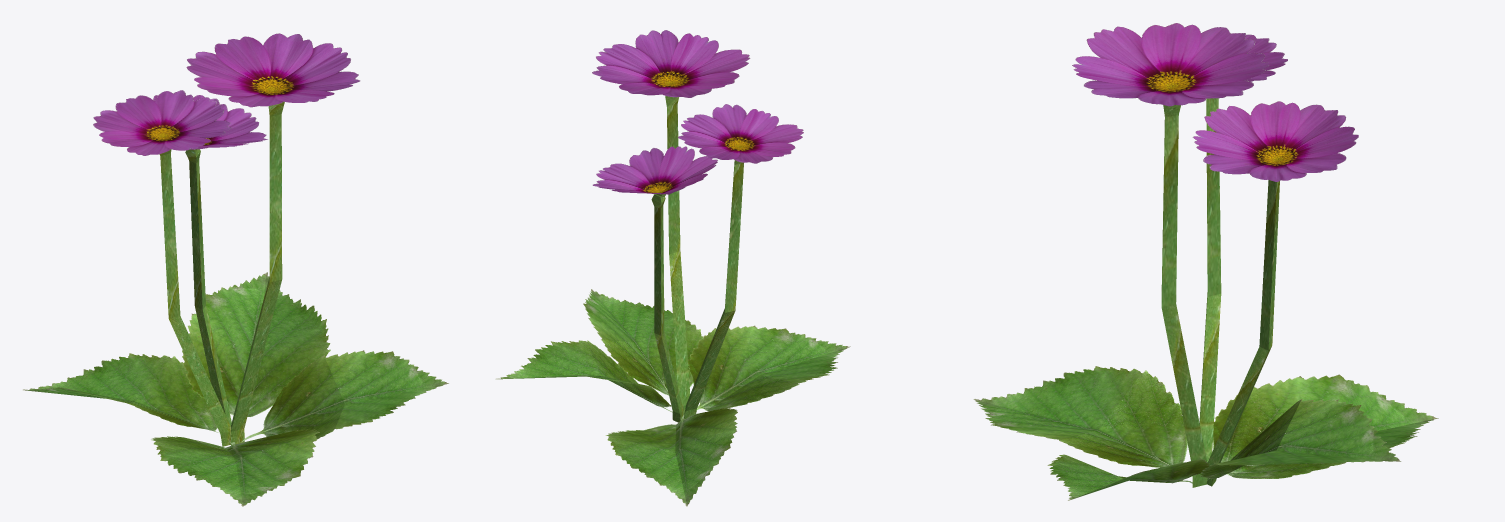
File: flower5.obj
3 views of the same model, side by side, from view 1: azimuth 30°, elevation 25°; view 2: azimuth 150°, elevation 25°; view 3: azimuth 270°, elevation 25° (orthographic). The views are drawn at different scales.
Parts seen in each view (by area): view 1: Plane.003, Plane, Plane.004, Plane.002, Plane.001, Plane.005, Circle, Circle.001, Circle.002, Plane.006; view 2: Plane.002, Plane.004, Plane.001, Plane, Plane.005, Plane.006, Plane.003, Circle, Circle.001, Circle.002; view 3: Plane.002, Plane.004, Plane.006, Plane.001, Plane.003, Circle, Circle.001, Circle.002, Plane, Plane.005.
Part boxes in pixels (x1=…): Plane.003: x1=182, y1=272, x2=330, y2=416; Plane: x1=241, y1=350, x2=448, y2=442; Plane.004: x1=186, y1=33, x2=360, y2=107; Plane.002: x1=151, y1=429, x2=319, y2=506; Plane.001: x1=23, y1=353, x2=218, y2=432; Plane.005: x1=93, y1=90, x2=231, y2=155; Circle: x1=231, y1=101, x2=284, y2=445; Circle.001: x1=159, y1=149, x2=231, y2=446; Circle.002: x1=185, y1=149, x2=231, y2=426; Plane.006: x1=153, y1=92, x2=267, y2=149; Plane.002: x1=688, y1=325, x2=850, y2=411; Plane.004: x1=592, y1=30, x2=750, y2=97; Plane.001: x1=605, y1=408, x2=737, y2=506; Plane: x1=583, y1=289, x2=703, y2=395; Plane.005: x1=678, y1=104, x2=803, y2=163; Plane.006: x1=592, y1=146, x2=717, y2=194; Plane.003: x1=495, y1=340, x2=672, y2=412; Circle: x1=665, y1=96, x2=690, y2=414; Circle.001: x1=684, y1=160, x2=743, y2=418; Circle.002: x1=651, y1=194, x2=683, y2=422; Plane.002: x1=973, y1=366, x2=1192, y2=476; Plane.004: x1=1072, y1=23, x2=1269, y2=106; Plane.006: x1=1192, y1=101, x2=1358, y2=181; Plane.001: x1=1192, y1=374, x2=1438, y2=482; Plane.003: x1=1200, y1=399, x2=1401, y2=481; Circle: x1=1161, y1=105, x2=1207, y2=487; Circle.001: x1=1199, y1=98, x2=1221, y2=462; Circle.002: x1=1206, y1=180, x2=1279, y2=486; Plane: x1=1047, y1=454, x2=1209, y2=500; Plane.005: x1=1244, y1=34, x2=1287, y2=81.
Size of the model in its own units: 5.85 by 6.58 by 7.46.
